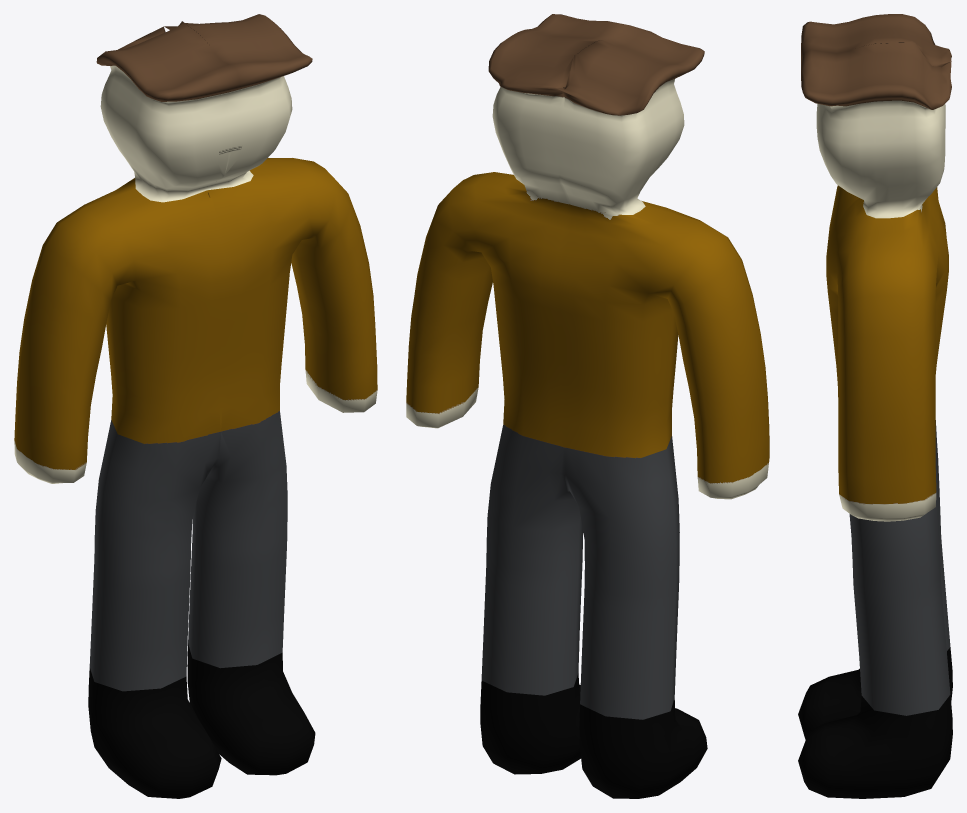
Rendered from Standing_Citizen.fbx.
3 renders of one model, left to right at view 1: azimuth 30°, elevation 25°; view 2: azimuth 150°, elevation 25°; view 3: azimuth 270°, elevation 25°, orthographic.
Parts seen in each view (by area): view 1: Cube.002; view 2: Cube.002; view 3: Cube.002.
Part boxes in pixels (box(x1,y1,x2,y2)): Cube.002: box(14, 14, 377, 798); Cube.002: box(406, 14, 769, 798); Cube.002: box(798, 14, 952, 798).
Size of the model in its own units: 82.03 by 168 by 32.53.
1 material, 1 textured.
